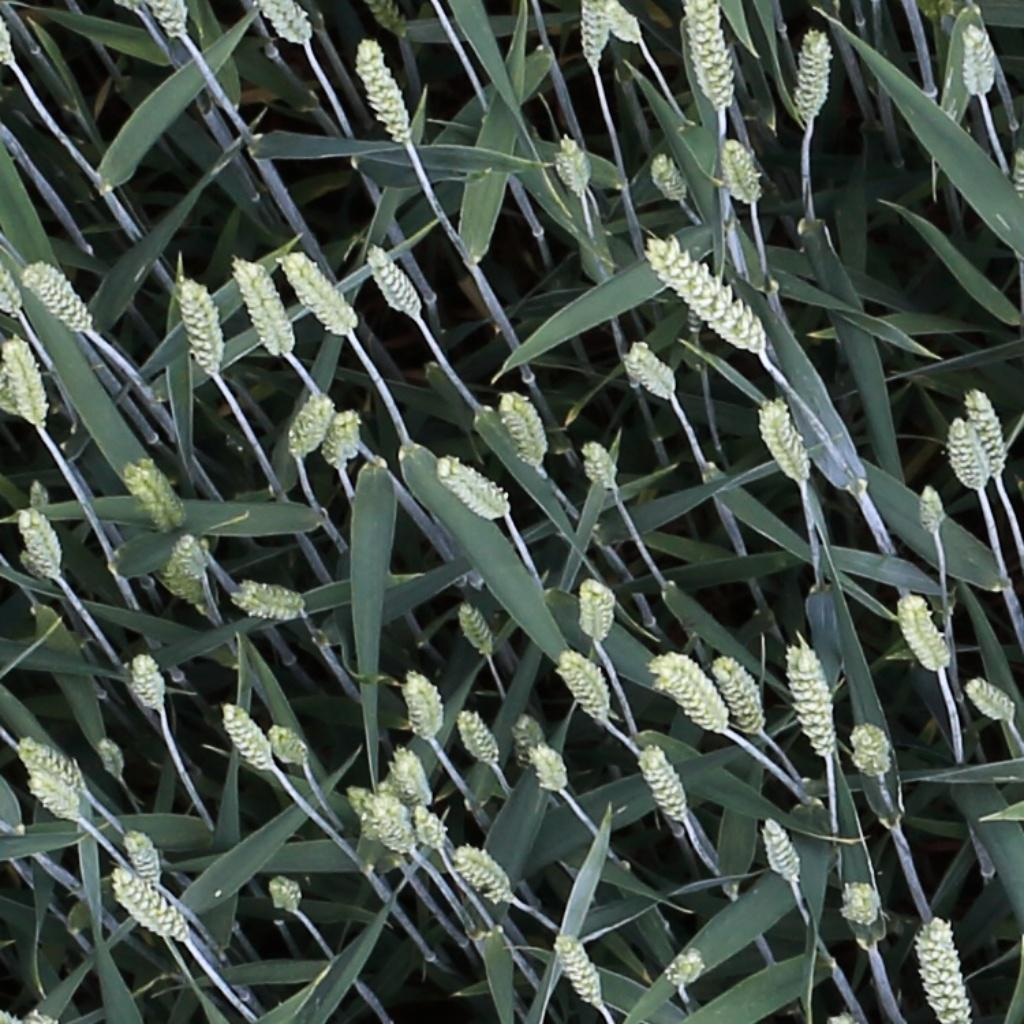0-0: (648, 237, 776, 356), (643, 643, 730, 735), (230, 255, 297, 358), (783, 637, 836, 763), (281, 248, 357, 334), (356, 38, 415, 148), (907, 918, 969, 1022), (751, 392, 813, 487), (110, 869, 189, 943), (686, 3, 735, 113), (23, 260, 94, 334), (364, 240, 427, 323), (712, 652, 770, 741), (173, 274, 222, 378), (118, 456, 181, 536), (896, 591, 953, 678), (217, 699, 278, 778), (552, 928, 608, 1013), (557, 648, 614, 729), (5, 335, 51, 435), (638, 742, 690, 830), (436, 457, 510, 517), (449, 833, 514, 901), (498, 389, 548, 472), (965, 383, 1008, 477), (17, 740, 87, 794), (224, 581, 309, 624), (15, 505, 65, 577), (760, 815, 806, 890), (720, 131, 764, 207), (404, 664, 443, 748), (456, 705, 503, 774), (121, 826, 166, 897), (628, 341, 681, 401), (372, 789, 416, 861), (950, 412, 988, 495), (288, 390, 334, 458), (385, 746, 429, 817), (27, 770, 83, 824), (800, 24, 830, 124), (454, 598, 499, 663), (165, 536, 208, 604), (323, 403, 363, 471), (555, 128, 593, 199), (649, 144, 692, 206), (528, 741, 573, 800), (854, 722, 895, 786), (962, 20, 993, 103), (131, 648, 167, 718), (581, 435, 623, 495), (341, 784, 379, 847), (965, 678, 1017, 724), (260, 0, 312, 46), (408, 800, 449, 858), (0, 215, 23, 318), (582, 574, 613, 649), (512, 711, 546, 779), (600, 1, 648, 46), (90, 733, 129, 787), (582, 0, 607, 76), (368, 0, 412, 42), (846, 879, 880, 931), (147, 0, 189, 42), (267, 726, 309, 768), (266, 875, 304, 918), (920, 479, 946, 540), (664, 950, 705, 987), (24, 472, 50, 524)
